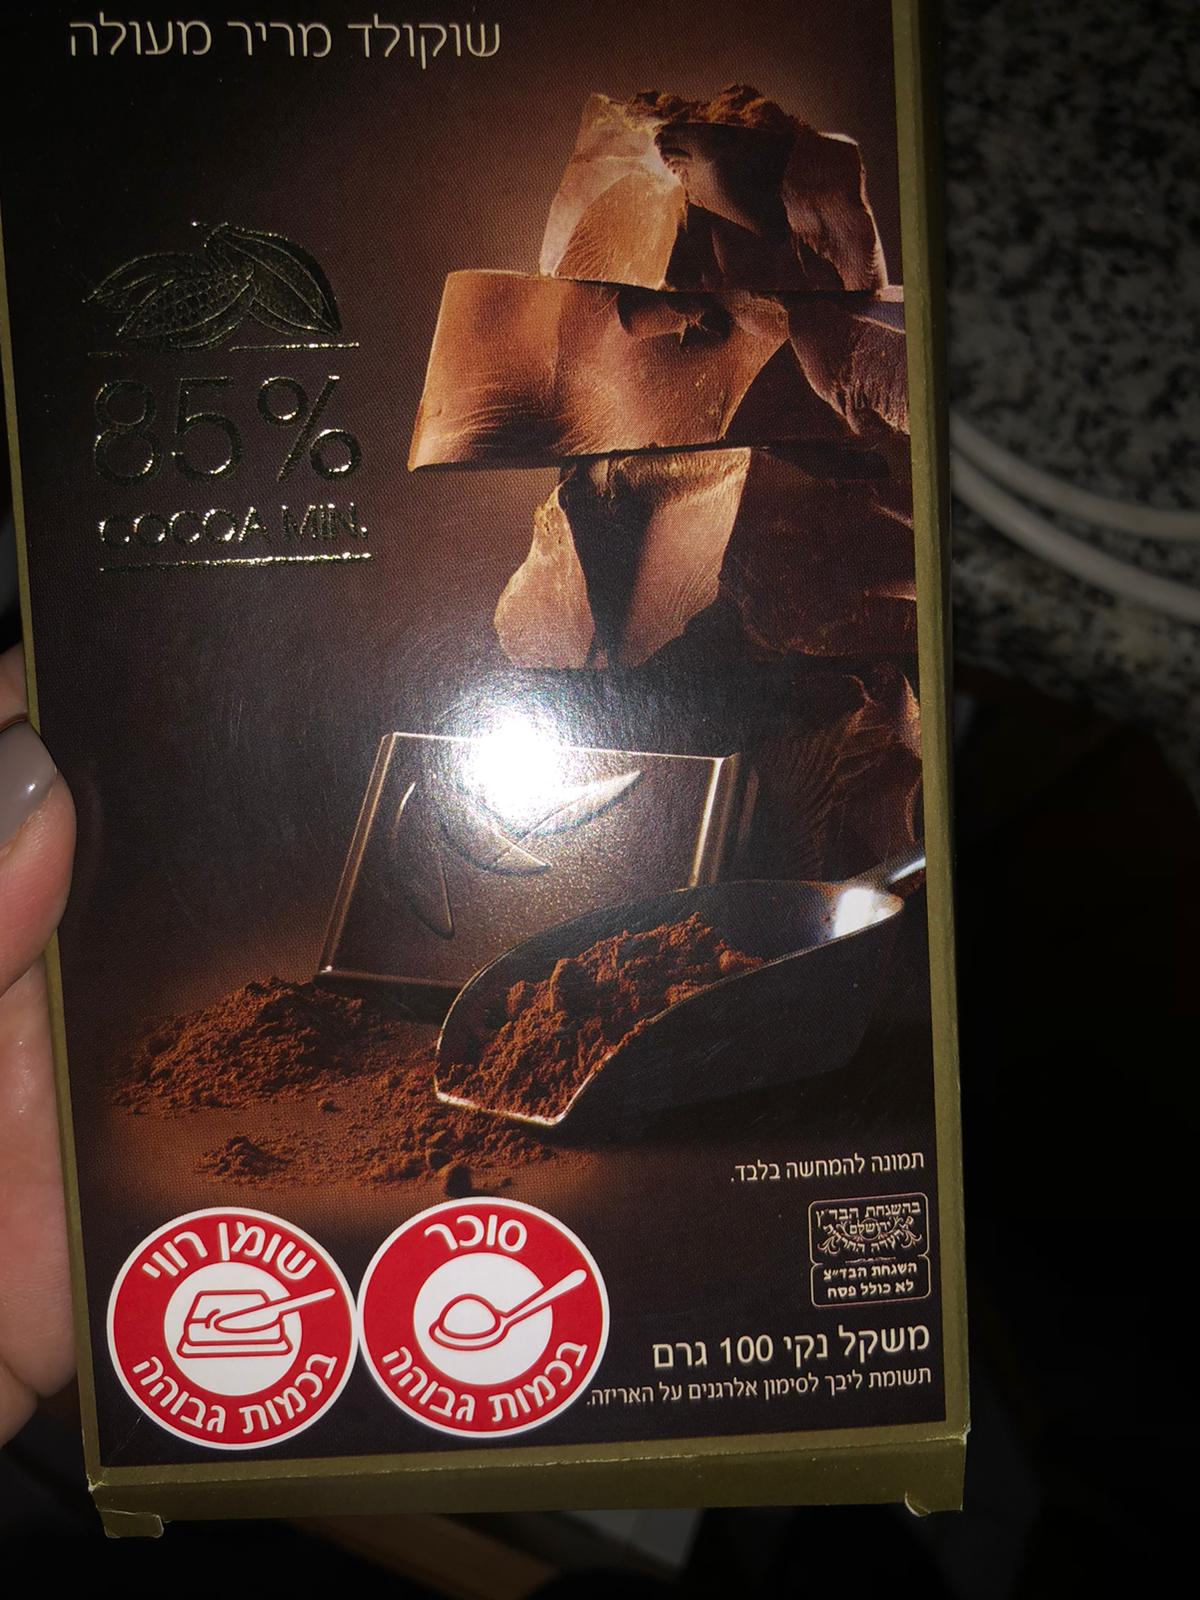fat: (106, 1206, 359, 1453)
sugar: (355, 1196, 613, 1440)
